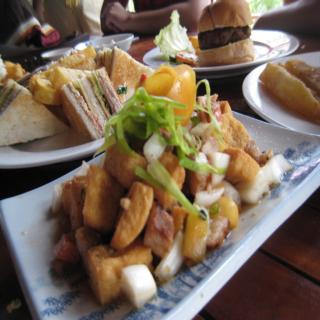Hamburger: (198, 0, 252, 70)
